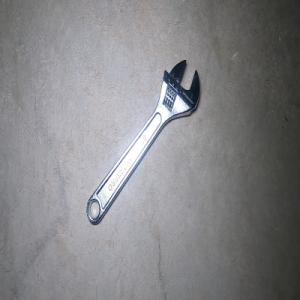Wrench: (86, 59, 199, 224)
